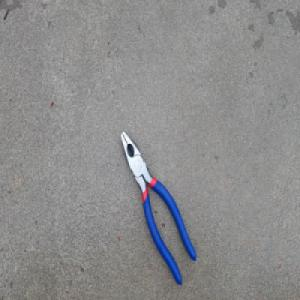Pliers: (120, 131, 197, 286)
